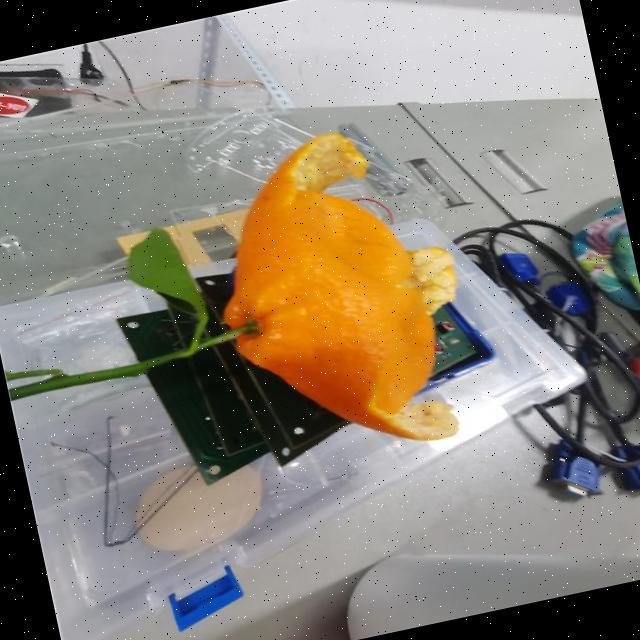orange-peel: (187, 110, 488, 478)
